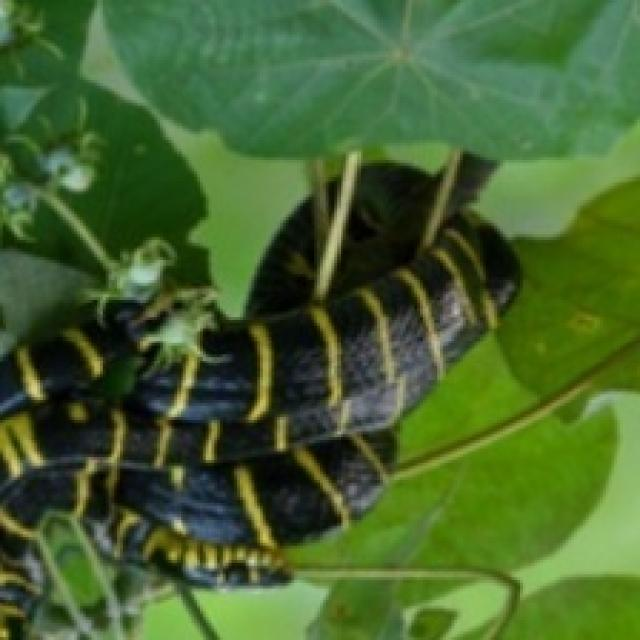mangrove cat snake: (0, 151, 517, 637)
